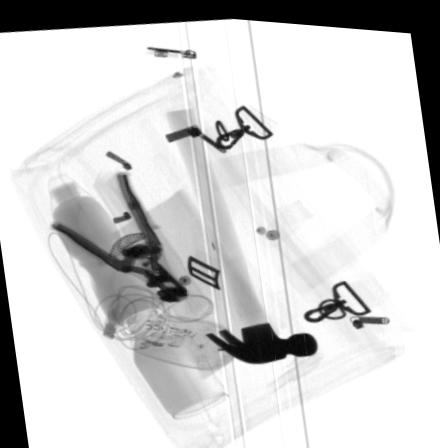Hammer: (163, 104, 318, 361)
Pliers: (47, 168, 187, 300)
